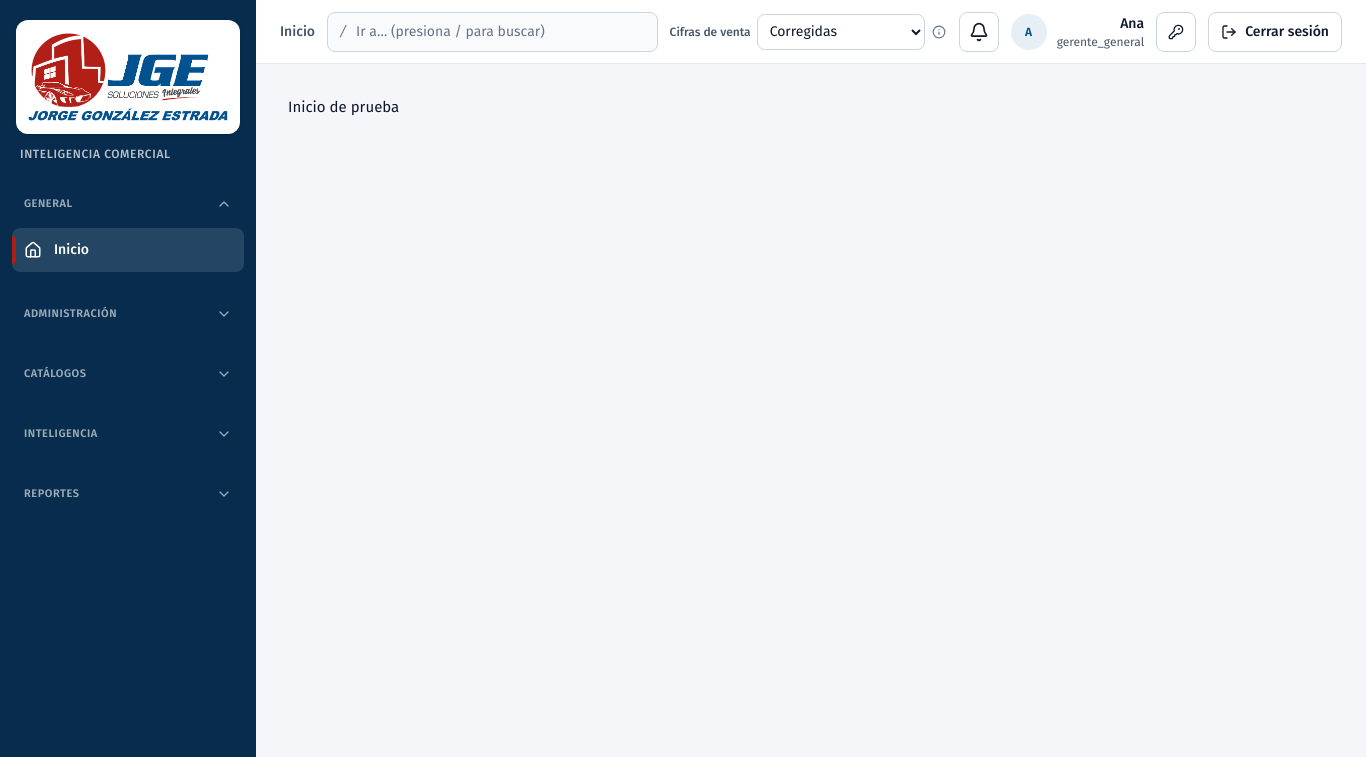
menú principal con opciones ocultas › quita solo las opciones ocultas y deja las demás
The image size is (1366, 757).
Click the button "Inteligencia" at (128, 434), box [12, 416, 244, 452]
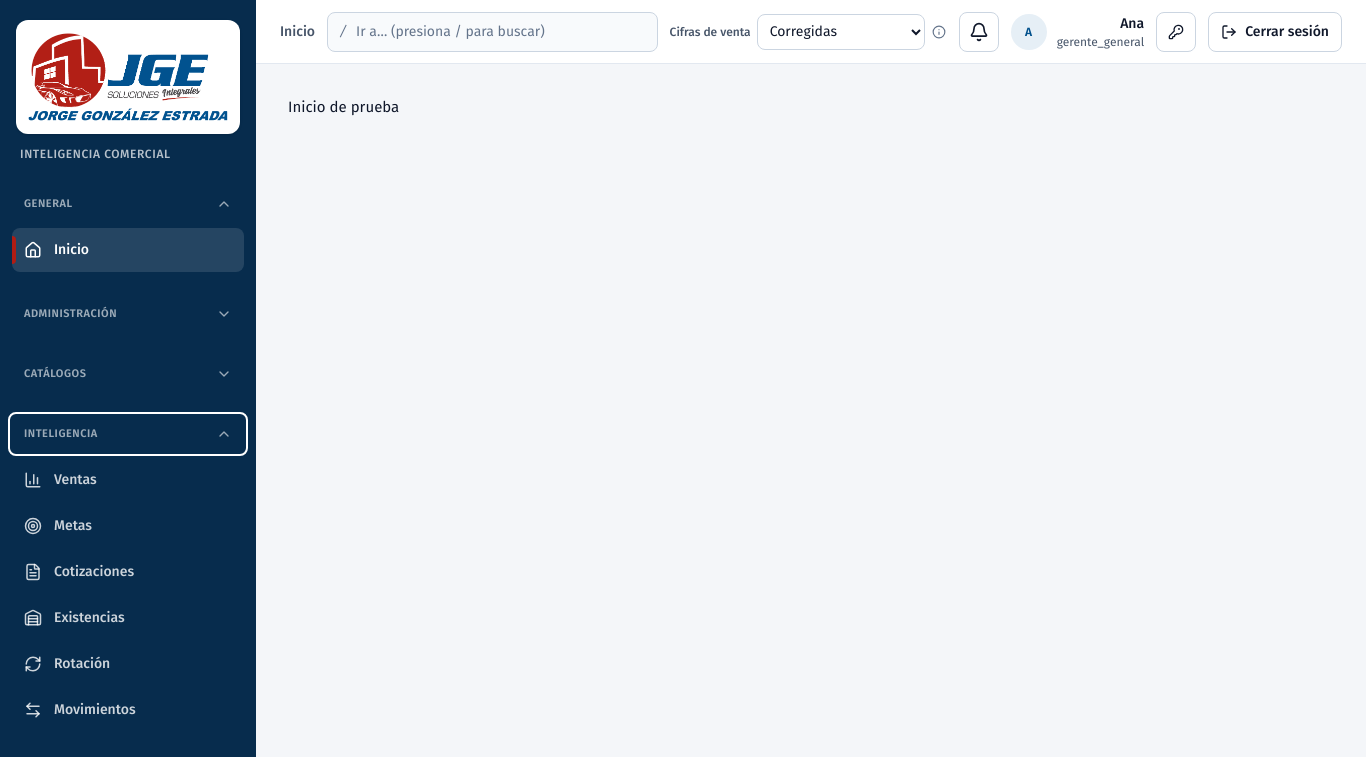
Now the link "Ventas" is shown, box [24, 471, 97, 489]
